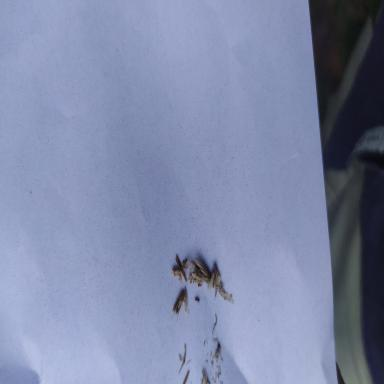pbw: (170, 289, 186, 321), (194, 254, 210, 280), (175, 254, 188, 282), (212, 263, 222, 290), (207, 270, 215, 290)
